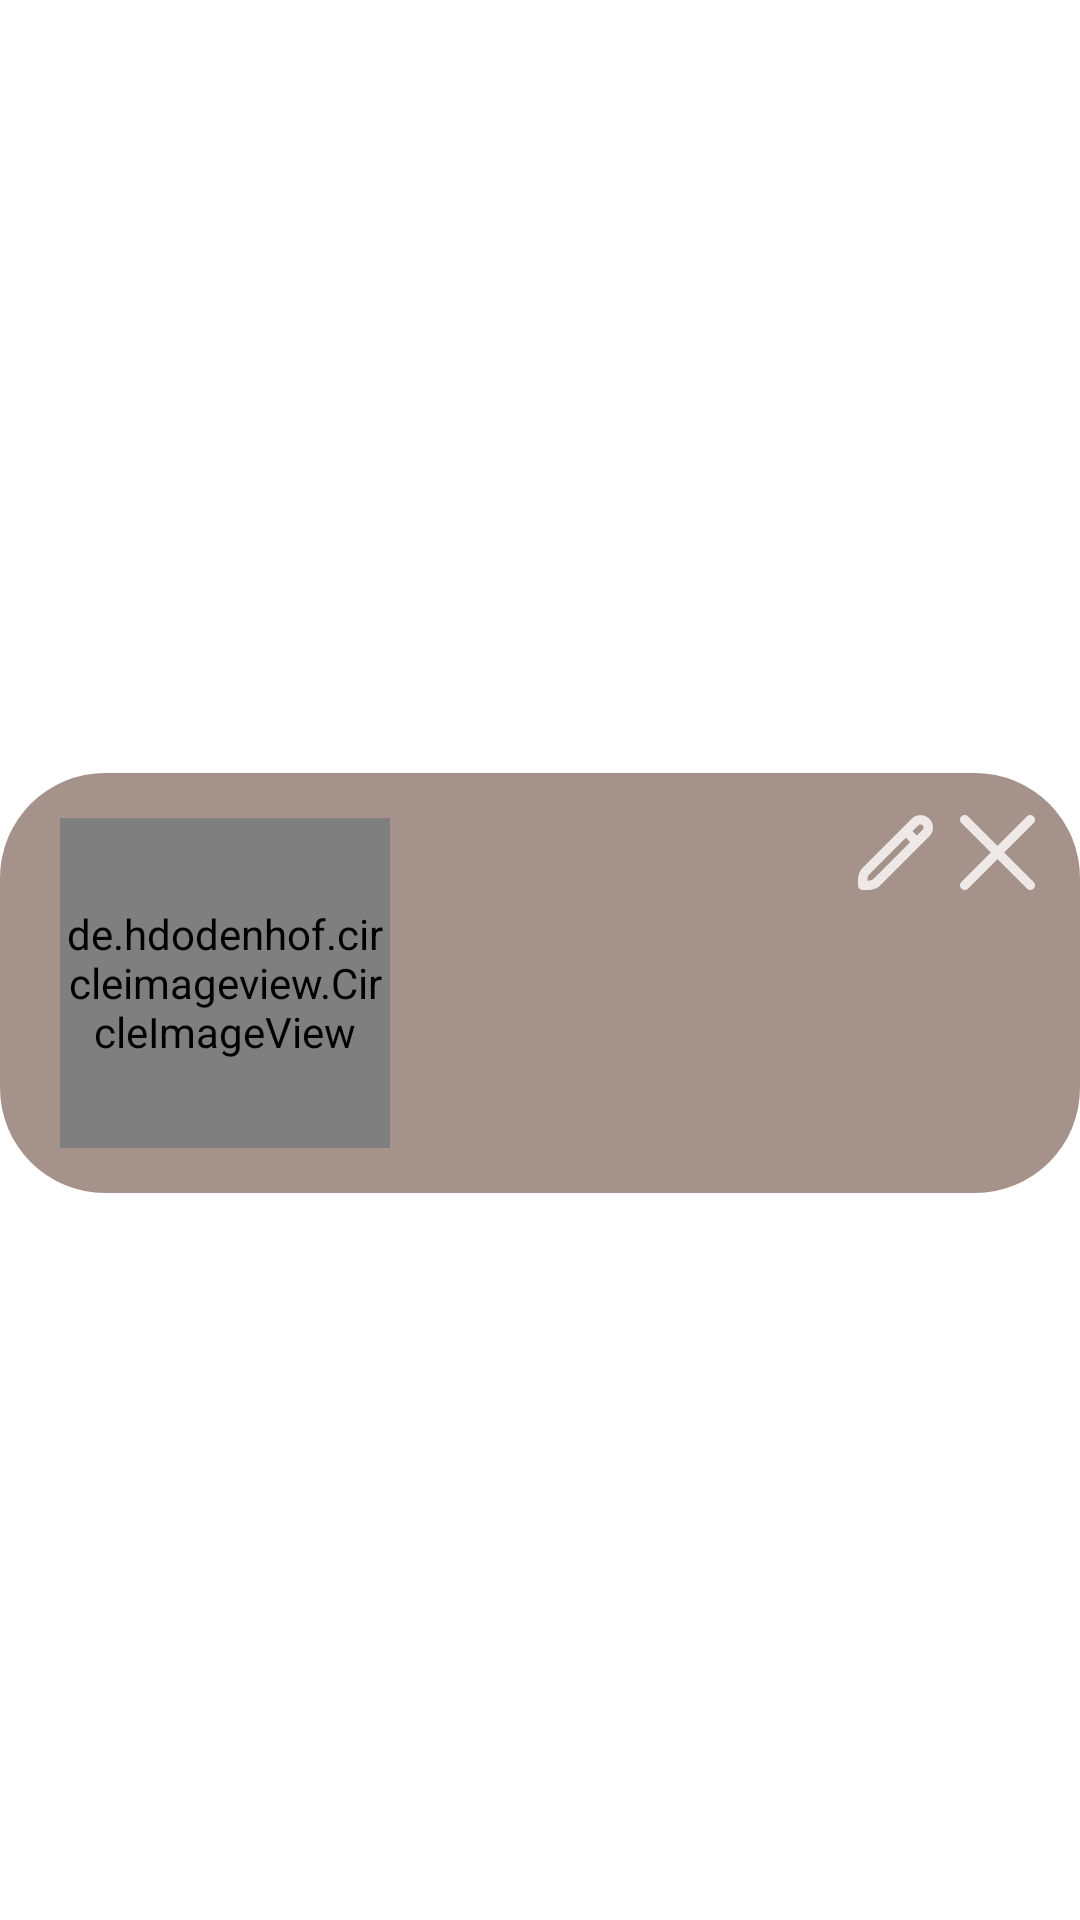

Named icons in this screenshot (1080*1920) and their centers, point (x, y):
delete: point (997, 852)
